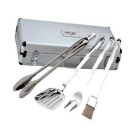fork: (39, 29, 103, 107)
